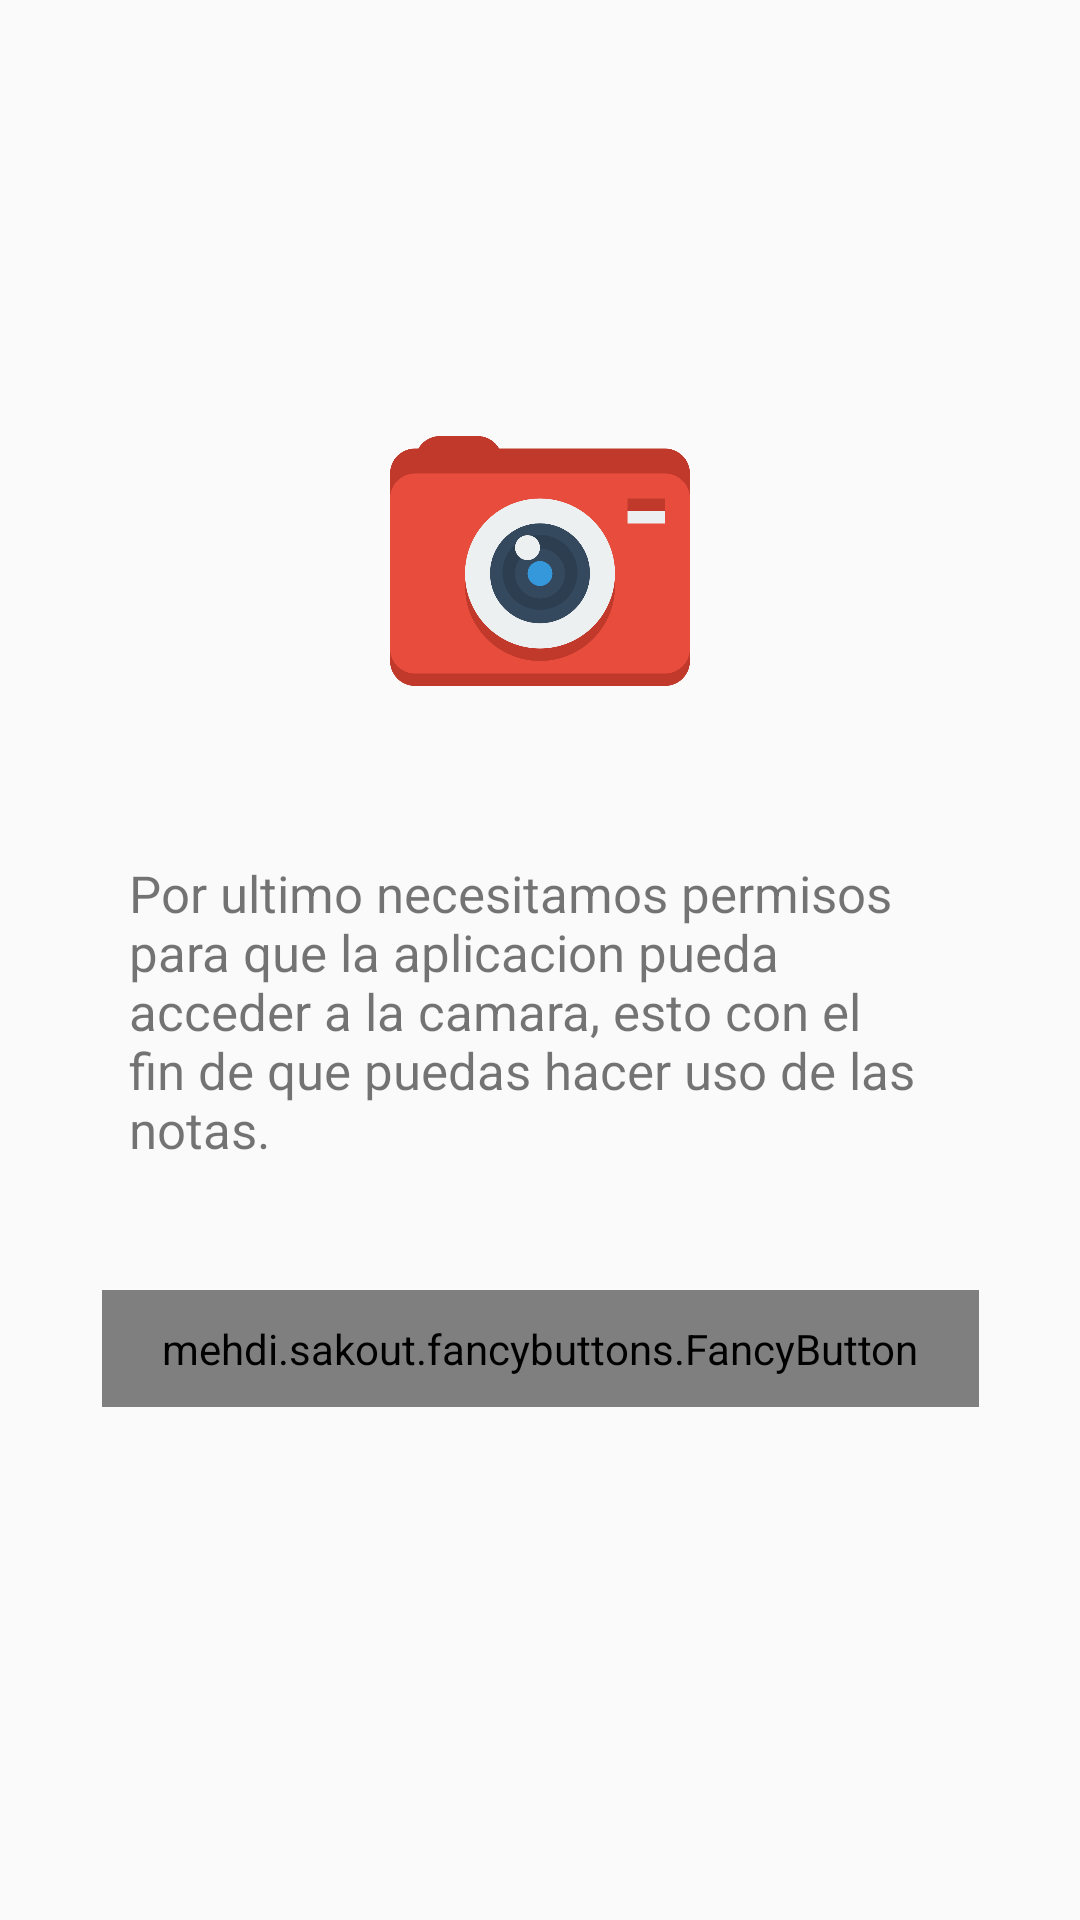

Named icons in this screenshot (1080w x 1920h) and their bounding boxes, (x1, y1, x2, y2):
camera: (390, 436, 690, 686)
